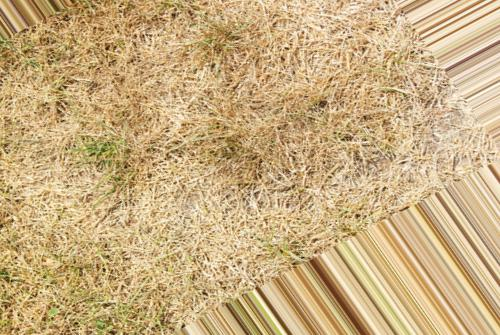patch: (1, 1, 476, 282), (3, 253, 256, 332)
